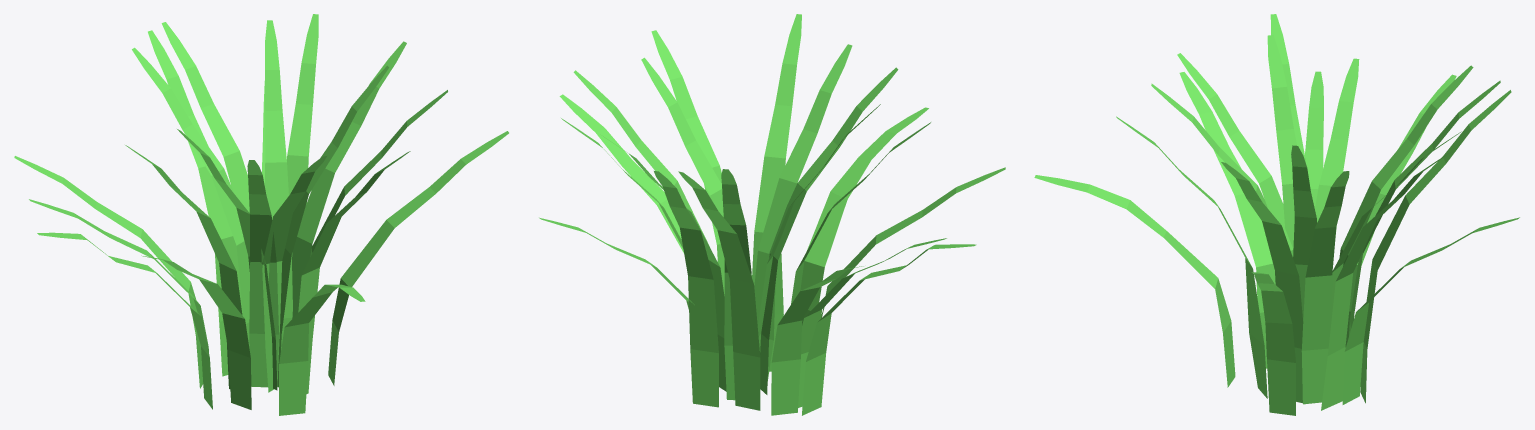
File: ENV_Grass03.fbx
3 views of the same model, side by side, from view 1: azimuth 30°, elevation 25°; view 2: azimuth 150°, elevation 25°; view 3: azimuth 270°, elevation 25° (orthographic). The views are drawn at different scales.
Parts seen in each view (by area): view 1: Plane.065; view 2: Plane.065; view 3: Plane.065.
Boxes of the visible parts, box(x1,y1,x2,y2) form: Plane.065: box(14, 14, 508, 415); Plane.065: box(539, 14, 1005, 415); Plane.065: box(1034, 14, 1519, 415).
Size of the model in its own units: 71 by 75.7 by 49.44.
